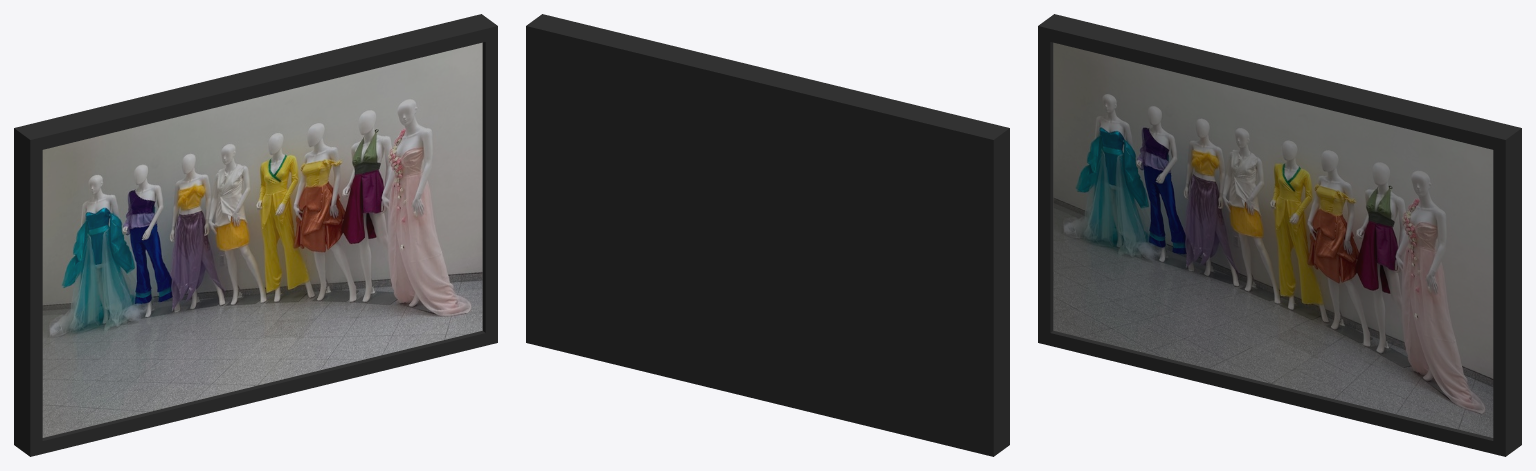
The model's file is ART26_IMG_1758.fbx.
3 views of the same model, side by side, from view 1: azimuth 30°, elevation 25°; view 2: azimuth 150°, elevation 25°; view 3: azimuth 330°, elevation 25° (orthographic).
Visible parts, largest first — view 1: ART26_IMG_1758; view 2: ART26_IMG_1758; view 3: ART26_IMG_1758.
Boxes of the visible parts, bbox=[...] form: ART26_IMG_1758: bbox=[14, 14, 497, 456]; ART26_IMG_1758: bbox=[526, 14, 1009, 456]; ART26_IMG_1758: bbox=[1038, 14, 1521, 456].
Size of the model in its own units: 95 by 5.75 by 61.53.
Materials: 2 (1 with a texture image).
